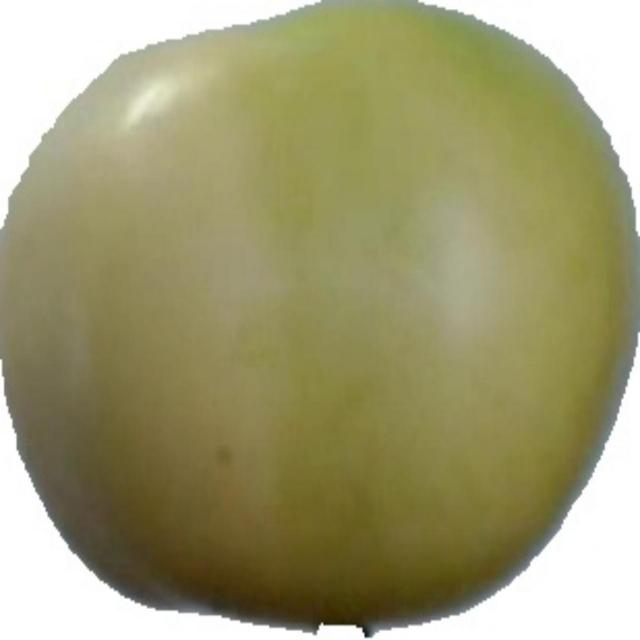apple: (0, 0, 638, 637), (2, 0, 637, 636)
